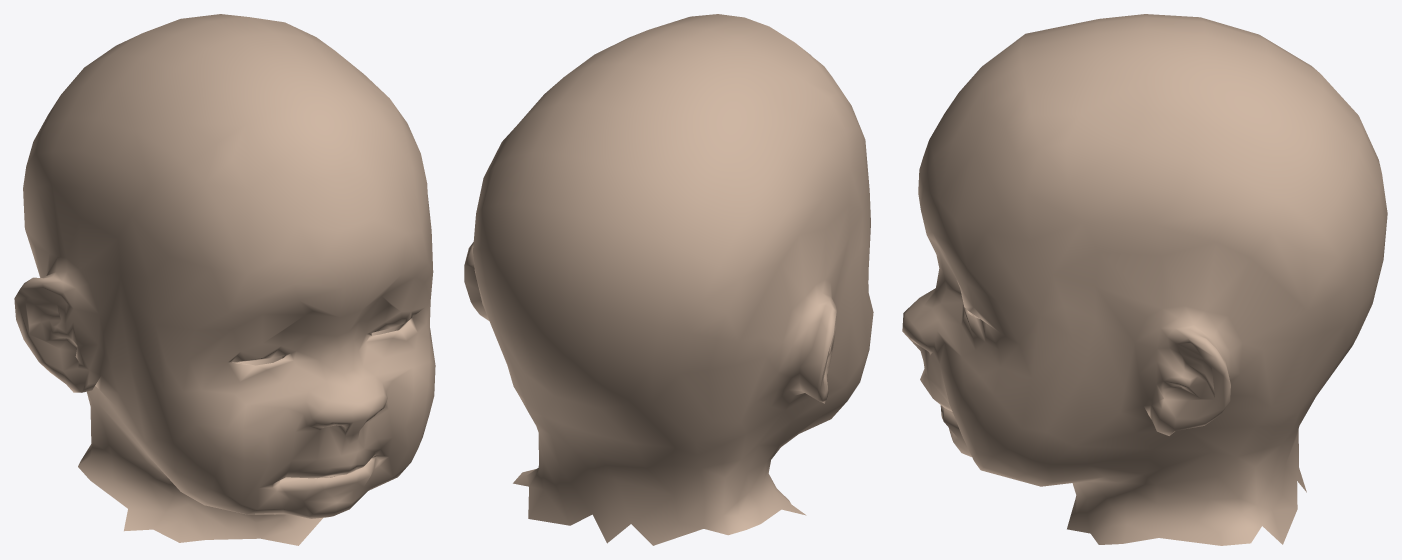
The model's file is baby_head.dae.
3 views of the same model, side by side, from view 1: azimuth 30°, elevation 25°; view 2: azimuth 150°, elevation 25°; view 3: azimuth 270°, elevation 25° (orthographic). The views are drawn at different scales.
Parts seen in each view (by area): view 1: Baby_Body; view 2: Baby_Body; view 3: Baby_Body.
Boxes of the visible parts, box(x1,y1,x2,y2) form: Baby_Body: box(14, 14, 435, 545); Baby_Body: box(464, 14, 873, 545); Baby_Body: box(902, 14, 1387, 545).
Size of the model in its own units: 1.21 by 1.34 by 1.49.
